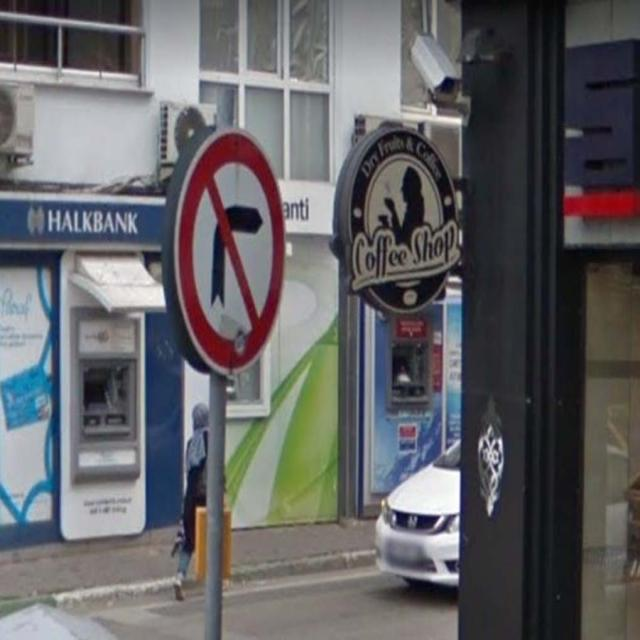sagadonulmez: (171, 122, 289, 373)
